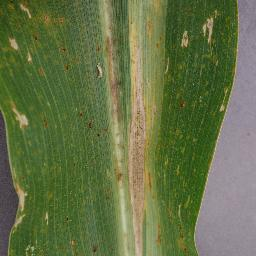Corn_Blight: (125, 8, 144, 256), (0, 1, 39, 66), (5, 152, 30, 253), (88, 32, 123, 87), (73, 107, 112, 137), (6, 96, 33, 135), (170, 17, 196, 57), (200, 6, 220, 52), (108, 163, 135, 186), (177, 215, 193, 252), (39, 204, 57, 235), (219, 90, 235, 120), (175, 95, 200, 112), (41, 10, 73, 23), (39, 110, 54, 132), (82, 243, 105, 254), (34, 62, 46, 82), (154, 226, 164, 247), (61, 40, 71, 57), (64, 214, 74, 229), (59, 65, 72, 73)
